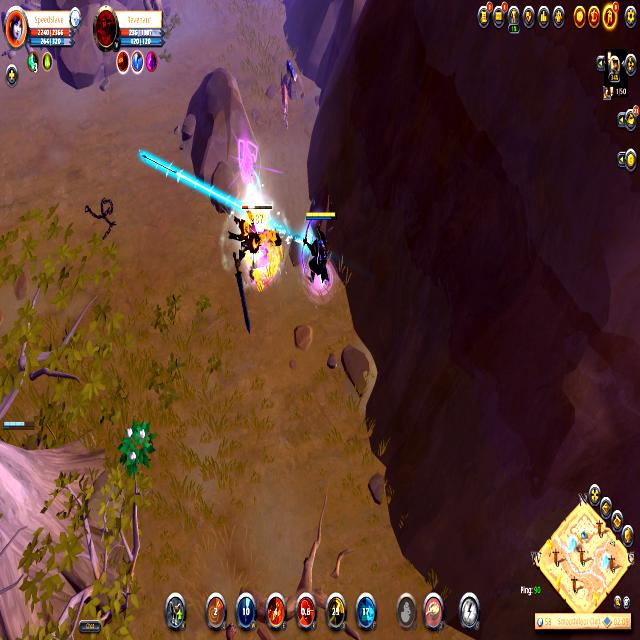hide: (117, 413, 156, 480)
ore: (238, 201, 280, 291), (278, 70, 294, 136)
red: (300, 208, 337, 297), (0, 412, 41, 435)
